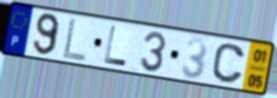3: (180, 36, 210, 81), (139, 30, 168, 74)
9: (32, 12, 61, 58)
C: (210, 42, 247, 86)
L: (61, 16, 88, 63), (102, 24, 129, 68)
